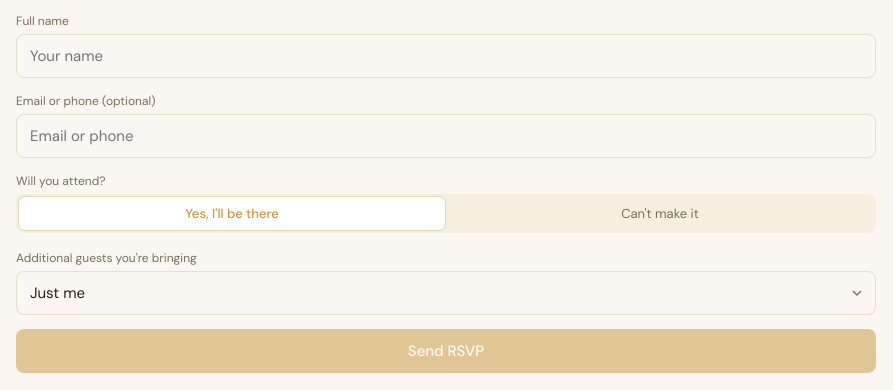
Test: RsvpForm › submits with an empty contact
In the field labelled "Full name": (446, 56) [16, 34, 876, 78], type "No Contact"
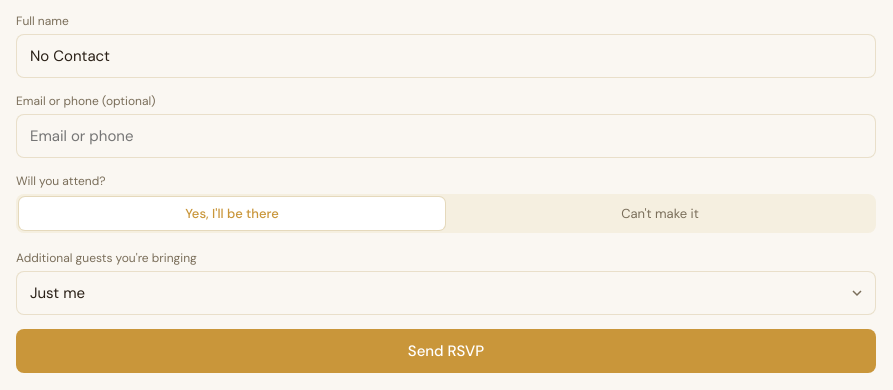
Click the button "Send RSVP": (446, 351) [16, 329, 876, 373]
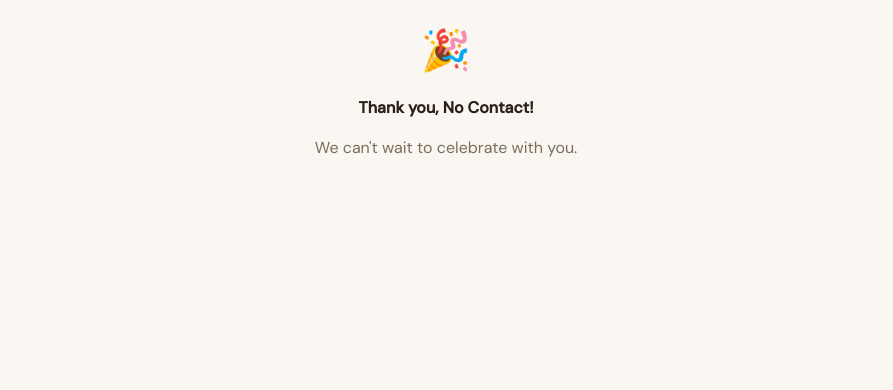
expect the text "Thank you, No Contact!" is shown: met, box [358, 97, 533, 118]
